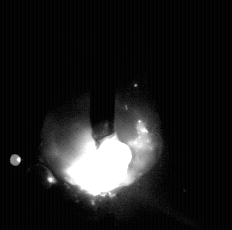arame: (89, 0, 116, 148)
poca: (40, 0, 163, 230)
